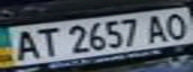2: (63, 21, 90, 55)
5: (103, 18, 127, 50)
6: (87, 19, 109, 52)
7: (118, 16, 145, 47)
A: (6, 27, 42, 61), (142, 11, 172, 44)
O: (160, 9, 193, 40)
T: (30, 25, 63, 58)
